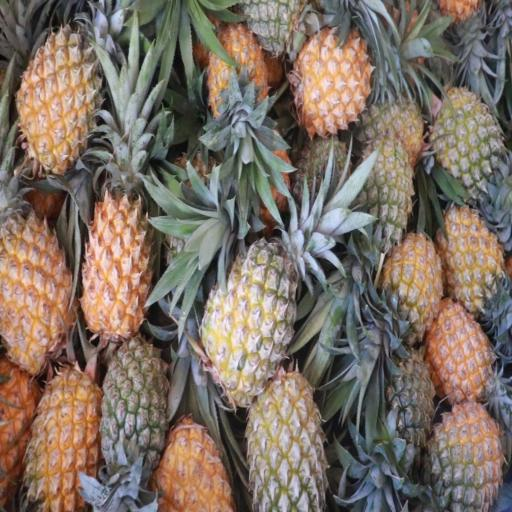------------------------------: (203, 244, 295, 400), (248, 366, 322, 512)
Pineapple - v8 v1: (0, 197, 71, 361), (80, 186, 149, 342), (26, 363, 98, 512), (21, 29, 97, 164), (294, 30, 371, 129), (443, 203, 505, 318), (436, 305, 501, 408), (158, 420, 230, 512), (386, 229, 441, 340), (208, 28, 269, 124)
